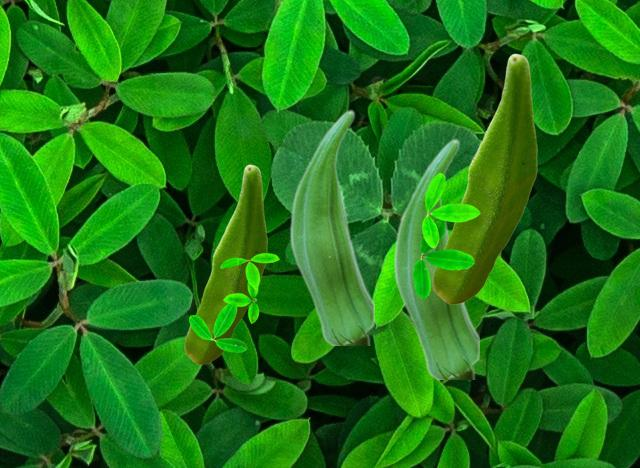okra: (432, 53, 536, 303), (393, 138, 478, 378), (289, 109, 373, 344), (184, 164, 266, 363)
